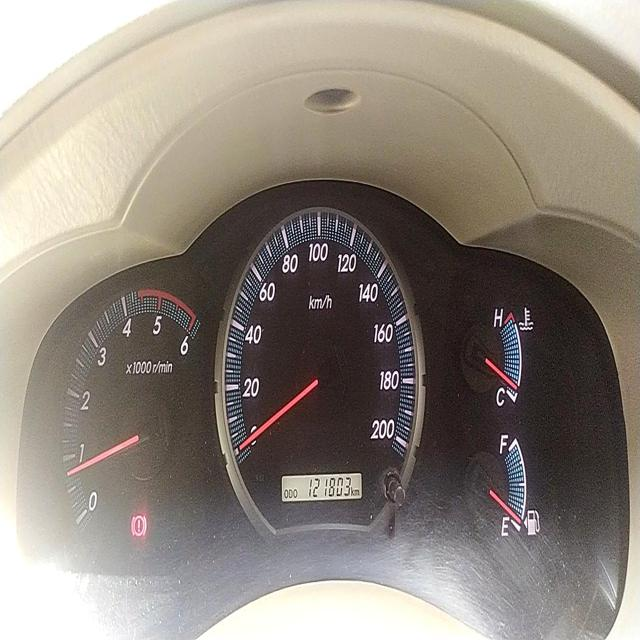odometer: (306, 472, 352, 502)
